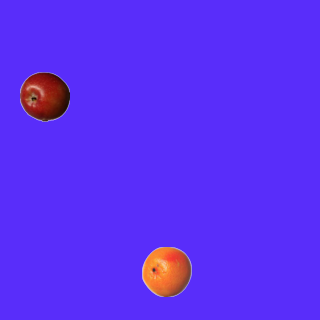Apple Braeburn: (19, 71, 69, 121)
Grapefruit Pink: (141, 246, 191, 296)
